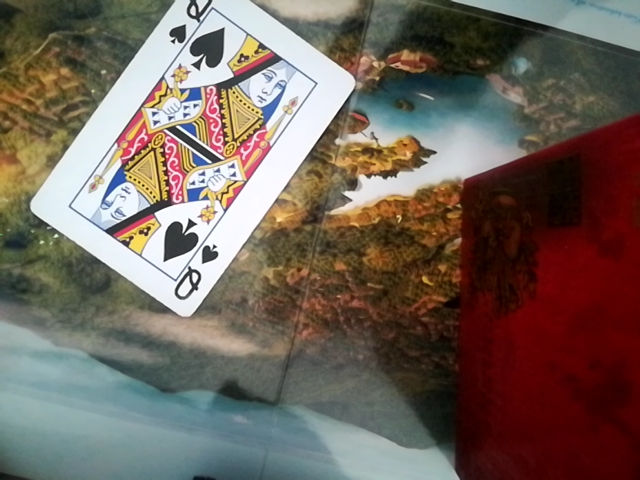ht q: (22, 0, 349, 317)
